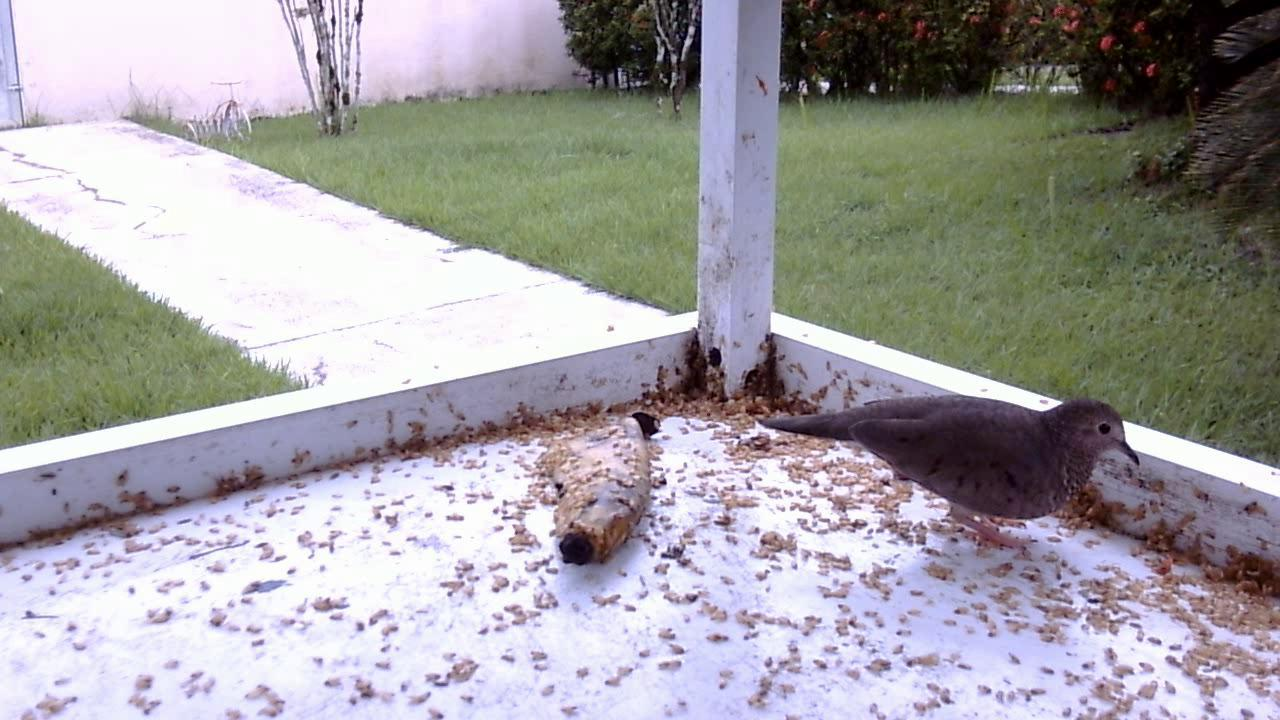rolinha: (737, 370, 1146, 559)
